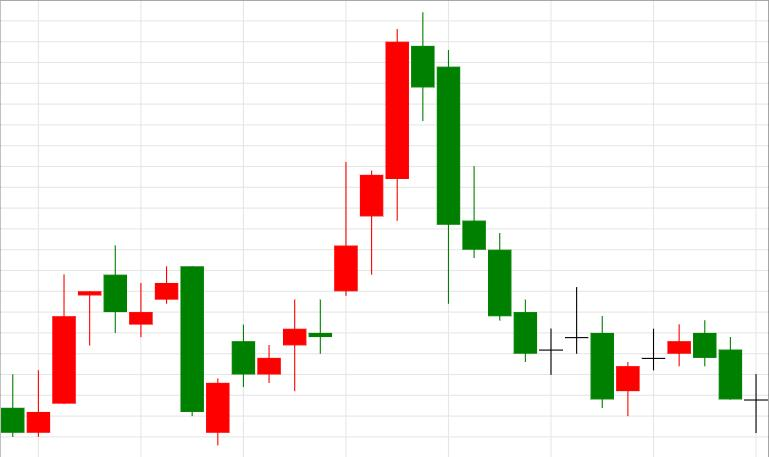hanging_man_fall: (206, 163, 383, 446)
shooting_star_fall: (206, 163, 358, 446)
